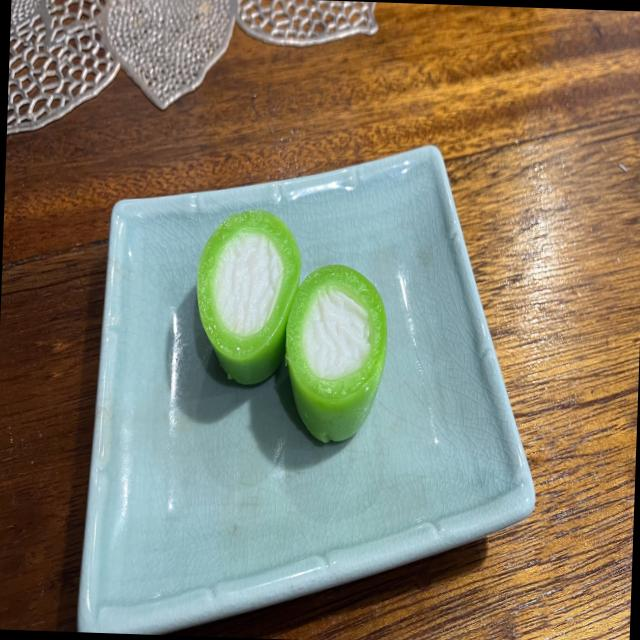nona-manis: (196, 209, 301, 384), (285, 265, 387, 443)
